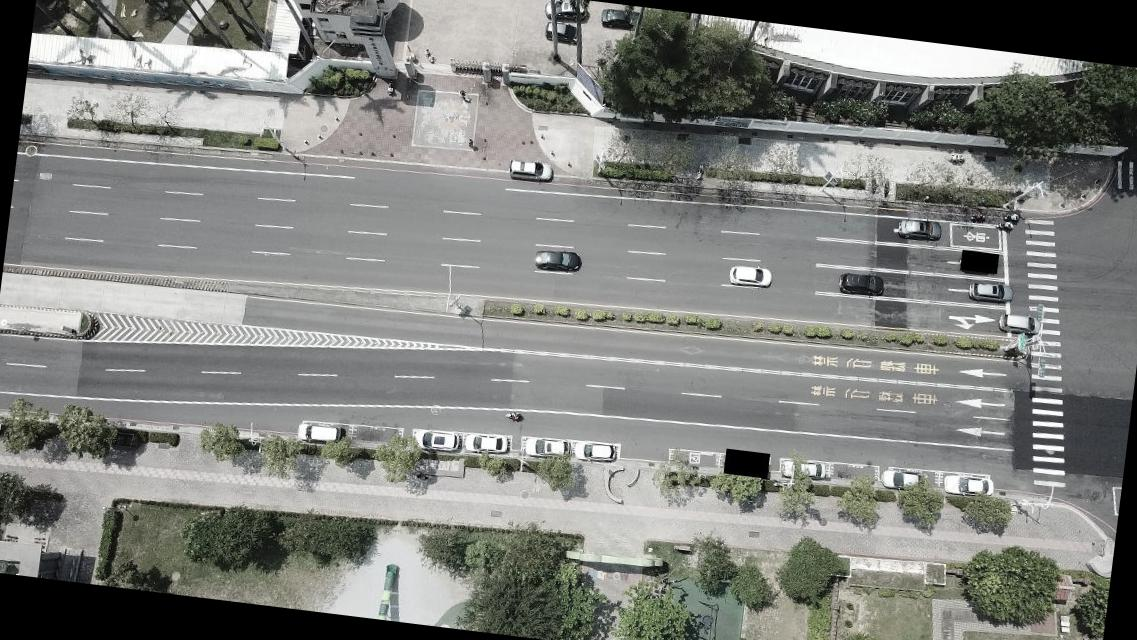vehicle: (838, 270, 884, 297), (941, 473, 994, 496), (507, 156, 553, 182), (728, 262, 773, 288), (533, 248, 581, 272), (541, 0, 590, 23), (524, 436, 570, 460), (895, 217, 942, 240), (463, 432, 508, 456), (968, 280, 1012, 304), (779, 458, 824, 481), (415, 427, 458, 451), (574, 439, 617, 462), (879, 468, 922, 490), (542, 21, 582, 44), (598, 7, 638, 30), (298, 423, 340, 444), (997, 314, 1041, 334)
